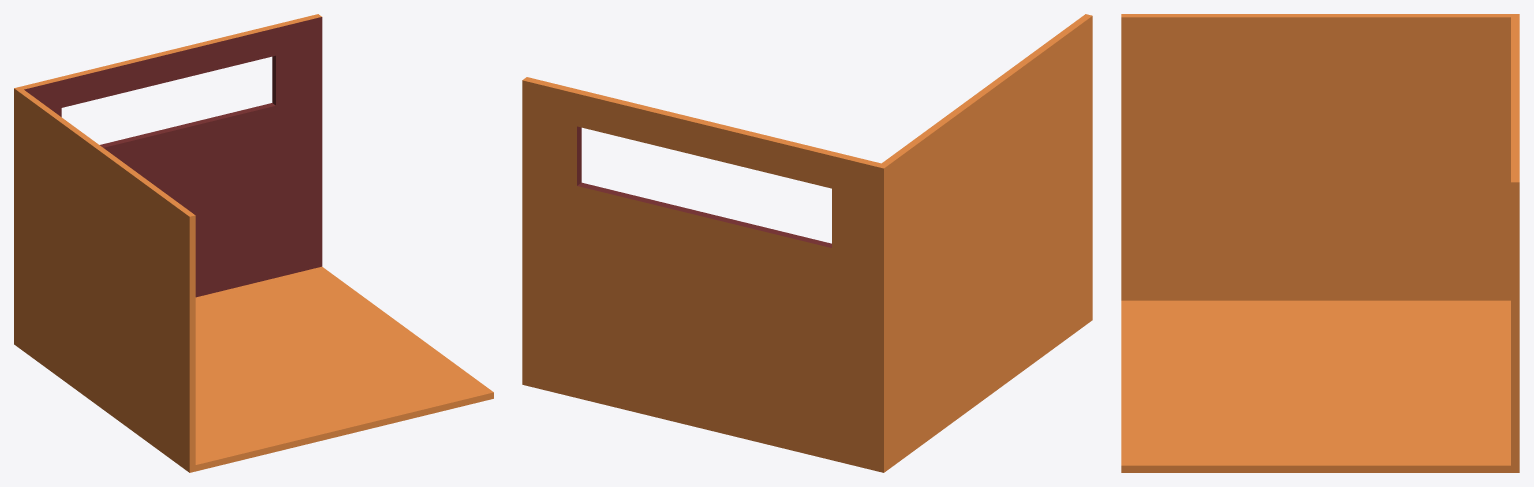
The model's file is Gym_base1.fbx.
3 views of the same model, side by side, from view 1: azimuth 30°, elevation 25°; view 2: azimuth 150°, elevation 25°; view 3: azimuth 270°, elevation 25° (orthographic). The views are drawn at different scales.
Visible parts, largest first — view 1: Gym_base1; view 2: Gym_base1; view 3: Gym_base1.
Boxes of the visible parts, x1,y1,x2,y2 form: Gym_base1: (14, 14, 493, 472); Gym_base1: (522, 14, 1092, 472); Gym_base1: (1121, 14, 1519, 472).
Bounding box in the file's own units: 500 × 402 × 500.
